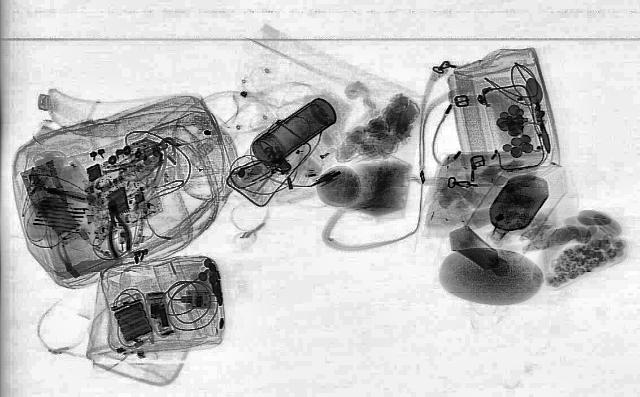Pliers: (100, 199, 134, 257)
